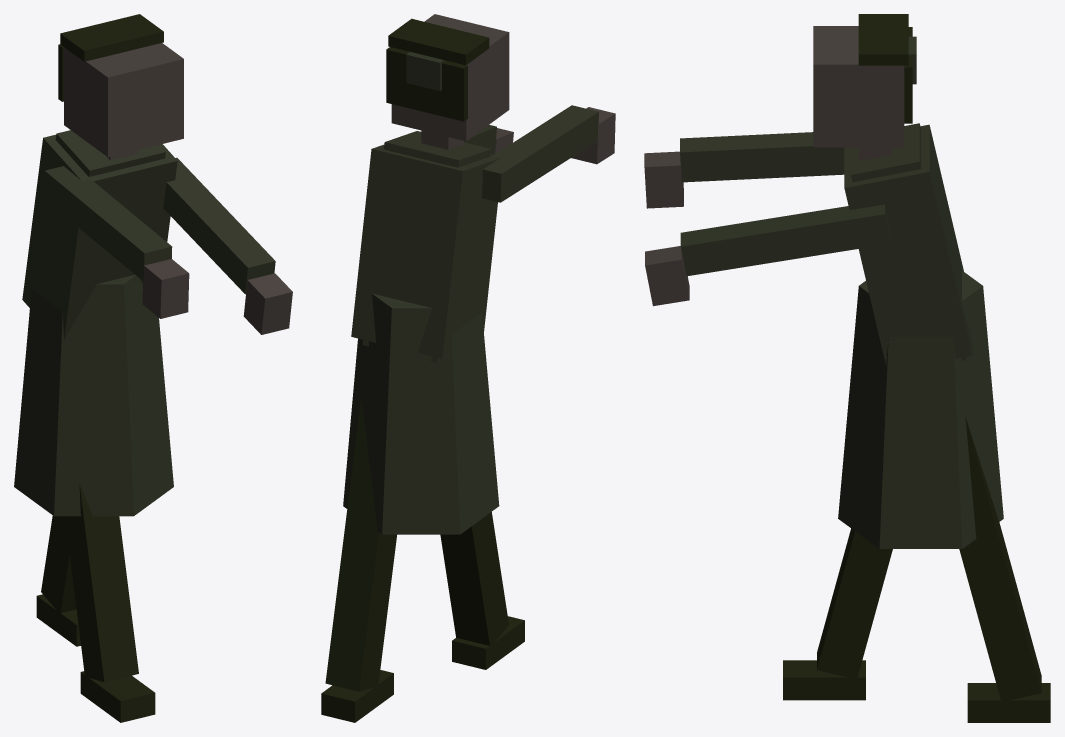
File: SM_ZombiFino_v9_Abrigo_LOD0.fbx
3 views of the same model, side by side, from view 1: azimuth 30°, elevation 25°; view 2: azimuth 150°, elevation 25°; view 3: azimuth 270°, elevation 25° (orthographic). The views are drawn at different scales.
Parts seen in each view (by area): view 1: SM_zombi_fino_v9_LOD0; view 2: SM_zombi_fino_v9_LOD0; view 3: SM_zombi_fino_v9_LOD0.
Boxes of the visible parts, x1,y1,x2,y2 form: SM_zombi_fino_v9_LOD0: (14, 14, 292, 722); SM_zombi_fino_v9_LOD0: (321, 14, 615, 722); SM_zombi_fino_v9_LOD0: (644, 14, 1050, 722).
Size of the model in its own units: 0.38 by 1.78 by 0.9796.
